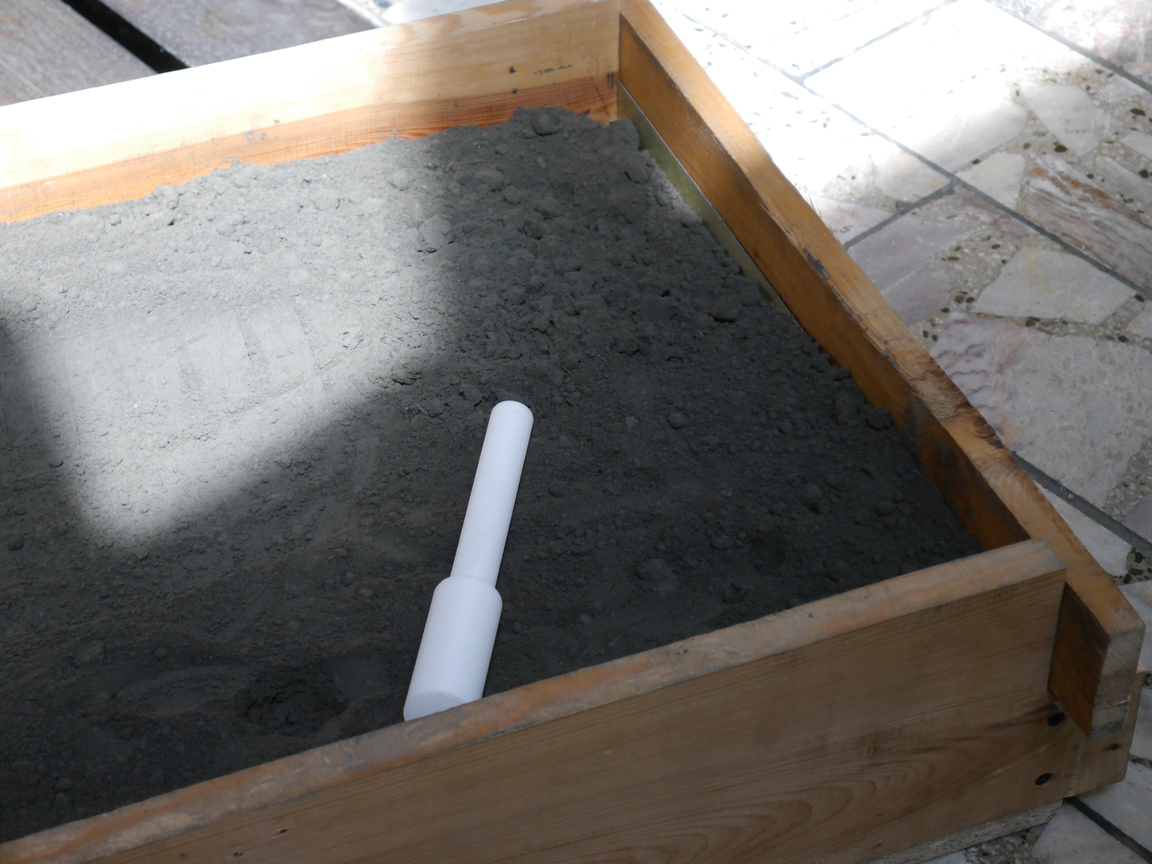cargo_g: (401, 401, 535, 723)
